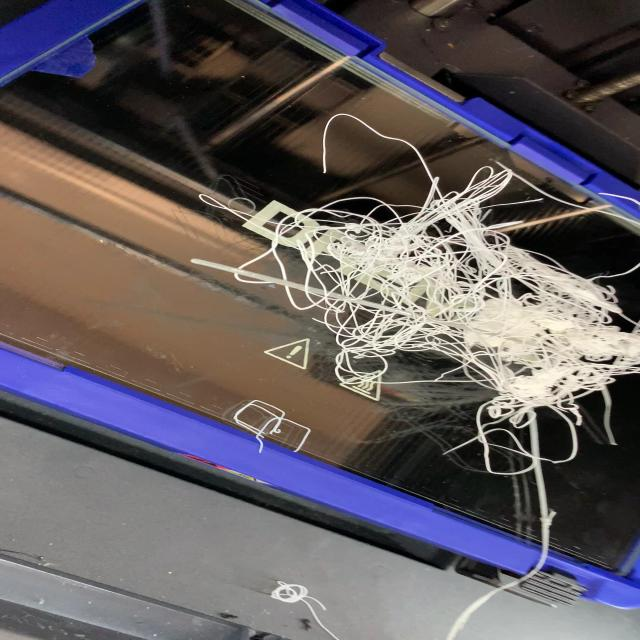spaghetti: (188, 115, 638, 476)
